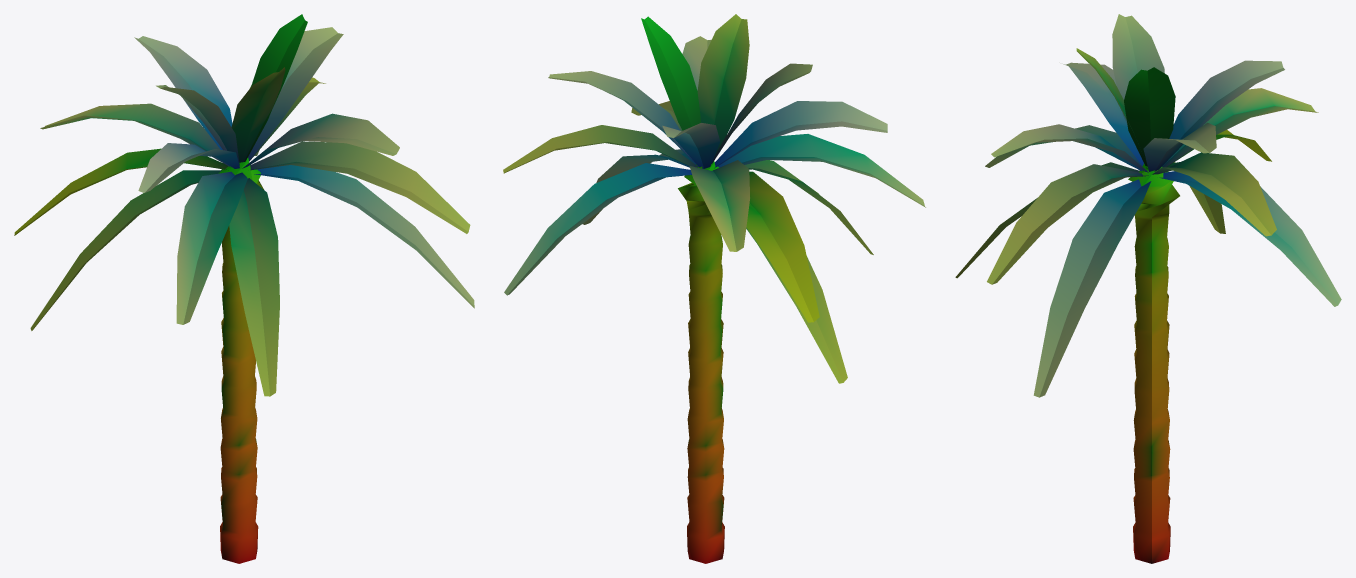
File: palm_lod1.glb
The picture shows the model from 3 angles, left to right: view 1: azimuth 30°, elevation 25°; view 2: azimuth 150°, elevation 25°; view 3: azimuth 270°, elevation 25°; orthographic projection.
Parts seen in each view (by area): view 1: palm_lod1; view 2: palm_lod1; view 3: palm_lod1.
Part boxes in pixels (box(x1,y1,x2,y2)): palm_lod1: box(14, 14, 474, 563); palm_lod1: box(503, 14, 925, 563); palm_lod1: box(955, 14, 1341, 563).
Bounding box in the file's own units: 7.43 × 10.47 × 7.07.
